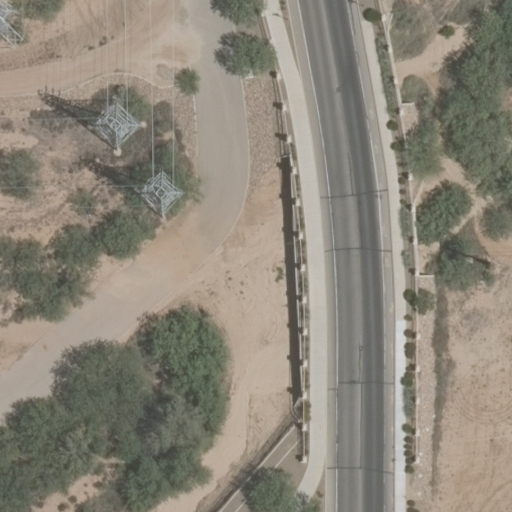TT: (93, 101, 149, 157), (143, 168, 184, 216)
